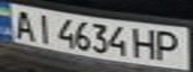3: (90, 21, 109, 55)
4: (106, 24, 130, 57), (54, 16, 75, 48)
6: (72, 19, 93, 52)
A: (9, 7, 39, 40)
H: (130, 25, 160, 61)
I: (30, 11, 57, 44)
P: (151, 28, 187, 62)
